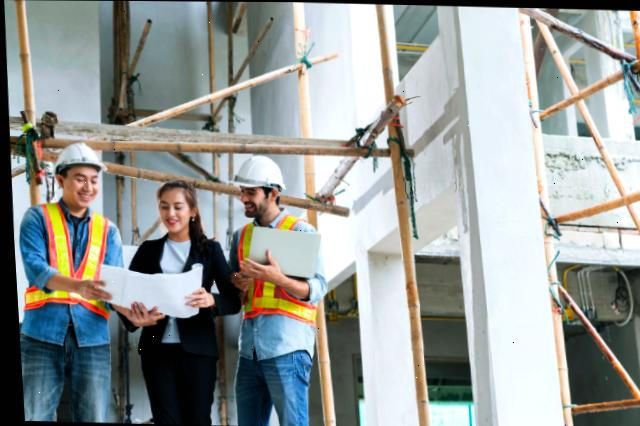helmet: (224, 154, 285, 194), (48, 142, 107, 176)
vest: (24, 199, 108, 319), (233, 217, 312, 328)
